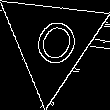O_SW: (22, 7, 82, 74)
